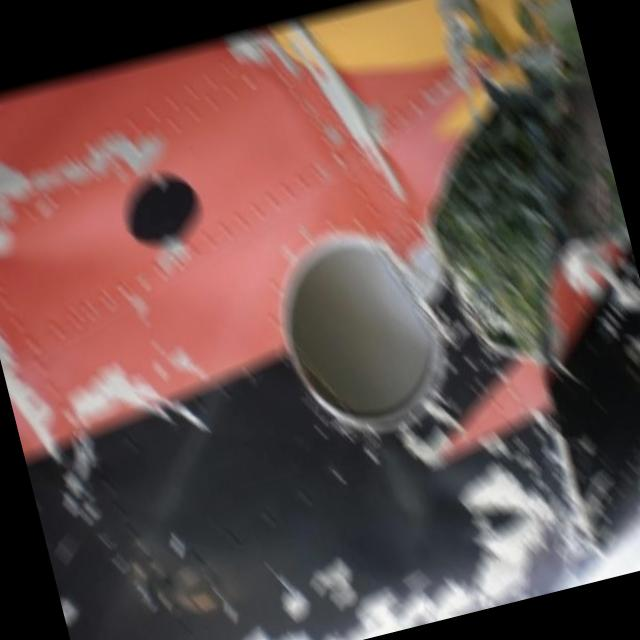dent: (0, 198, 131, 276), (363, 448, 431, 532)
